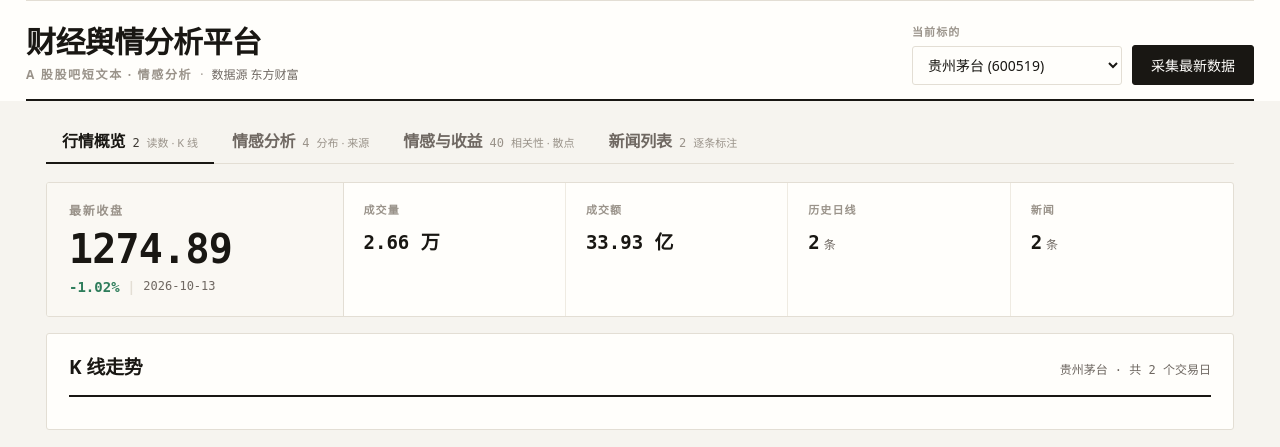
Scenario: 功能导航 › 点击页签切换当前视图
The width and height of the screenshot is (1280, 447).
Step 1. Click the tab "新闻列表 2 逐条标注" → (673,141), box [593, 119, 753, 163]
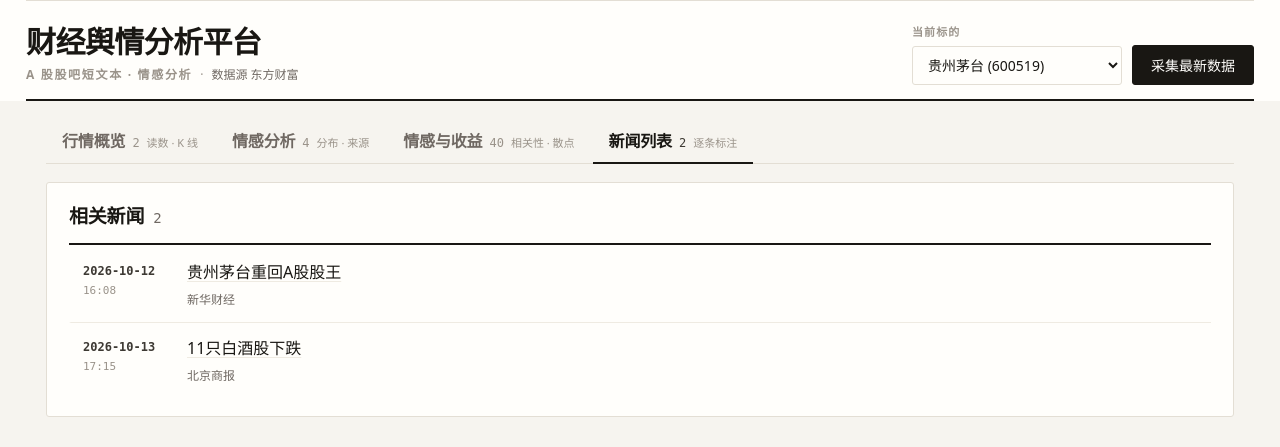
Now the text "贵州茅台重回A股股王" is shown, box [187, 261, 341, 283]
